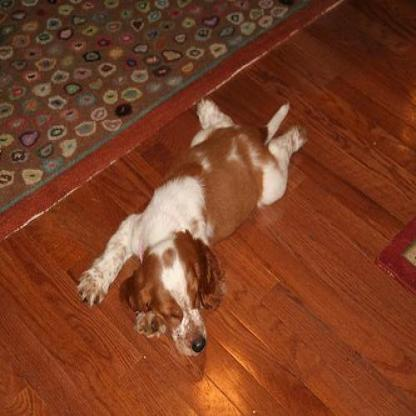Welsh_springer_spaniel: (76, 95, 313, 355)
